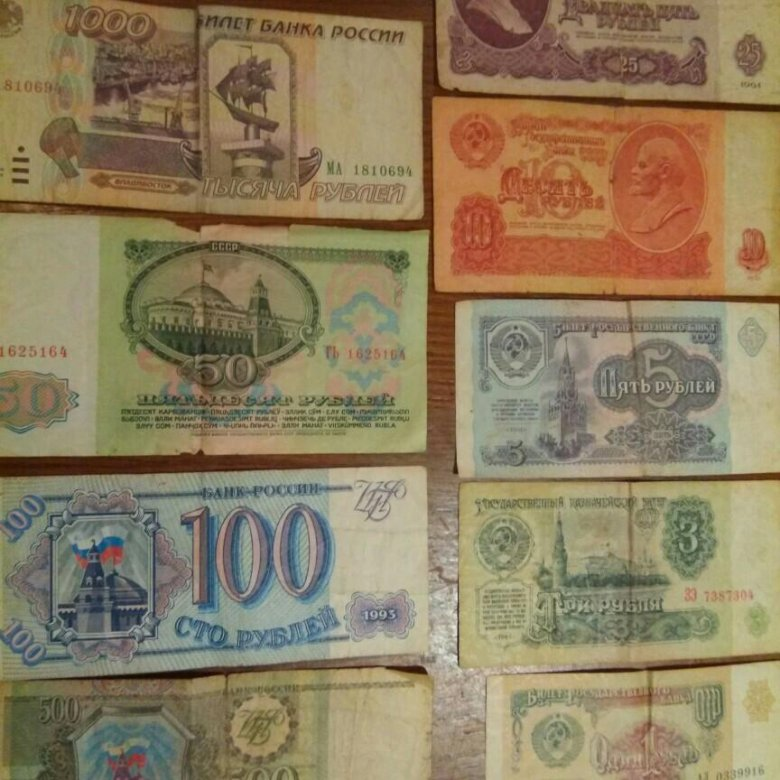cash: (1, 212, 428, 458), (1, 1, 425, 223), (1, 464, 428, 681), (432, 95, 780, 297), (457, 478, 780, 670), (453, 300, 780, 479), (1, 668, 432, 780), (436, 1, 780, 106), (487, 661, 780, 780)
